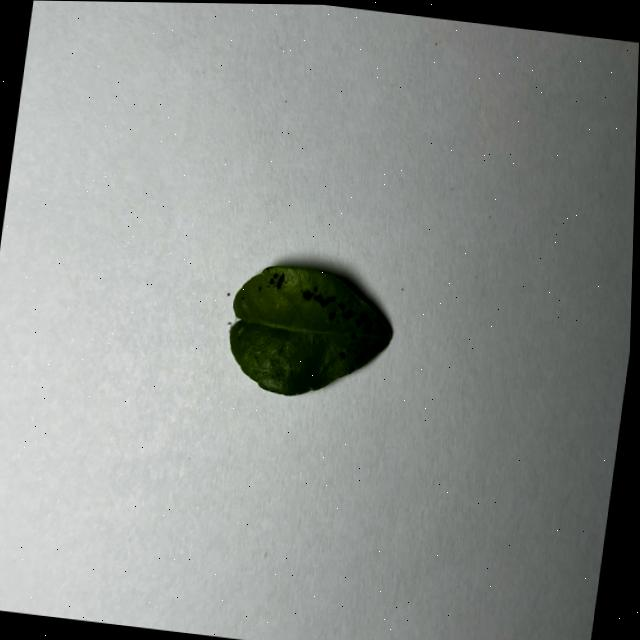sooty_mold: (229, 265, 390, 394)
